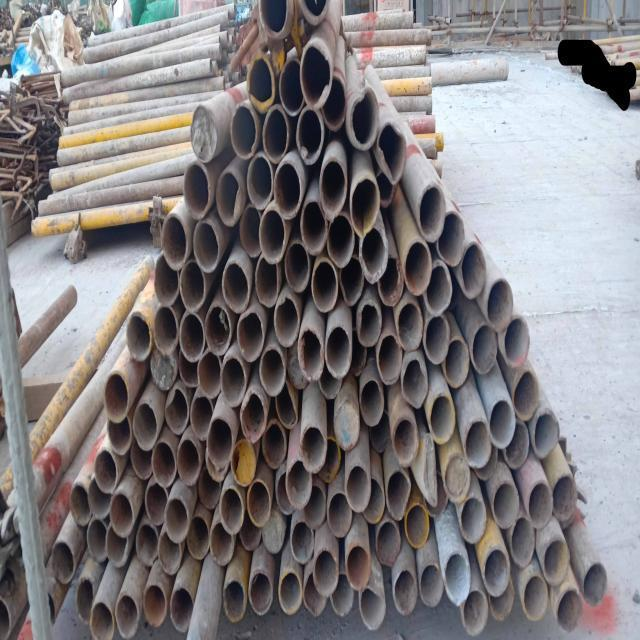pipe: (300, 41, 332, 110), (350, 84, 380, 151), (350, 174, 380, 240), (378, 118, 407, 186), (245, 51, 276, 114), (358, 223, 388, 285), (295, 102, 324, 166), (262, 100, 290, 164), (417, 180, 445, 243), (272, 162, 302, 220), (423, 260, 453, 318), (319, 156, 347, 218), (258, 206, 286, 266), (404, 238, 432, 298), (220, 260, 250, 316), (310, 258, 340, 313), (190, 104, 218, 162), (438, 210, 466, 268), (422, 309, 450, 367), (486, 275, 514, 333), (161, 210, 188, 270), (324, 322, 352, 379), (216, 170, 243, 228), (300, 198, 327, 256), (284, 459, 314, 511), (192, 219, 220, 274), (296, 326, 324, 381), (464, 416, 492, 471), (482, 544, 510, 599), (279, 59, 305, 118), (183, 162, 210, 218), (246, 154, 273, 210), (327, 214, 355, 268), (392, 414, 419, 470), (254, 252, 280, 310), (458, 492, 487, 544), (461, 240, 486, 300), (532, 408, 562, 458), (472, 316, 496, 378), (401, 356, 429, 409), (238, 203, 264, 260), (509, 516, 536, 570), (230, 102, 256, 158), (376, 254, 404, 306), (178, 260, 206, 312), (376, 334, 404, 386), (396, 301, 424, 353), (300, 420, 326, 476), (240, 388, 266, 444), (444, 550, 470, 606), (492, 478, 520, 530), (429, 392, 456, 445), (551, 471, 578, 524), (514, 366, 540, 421), (207, 416, 233, 471), (236, 312, 264, 363), (322, 76, 346, 135), (205, 304, 232, 356), (344, 464, 372, 514), (258, 346, 286, 396), (284, 240, 310, 293), (153, 305, 179, 358), (180, 310, 206, 363), (220, 354, 246, 407), (132, 398, 158, 451), (258, 0, 290, 43), (504, 315, 530, 367), (360, 377, 386, 429), (104, 372, 130, 424), (313, 547, 339, 599), (544, 534, 570, 586), (443, 336, 468, 390), (422, 434, 440, 509), (334, 400, 361, 450), (154, 251, 178, 307), (125, 311, 151, 362), (488, 397, 514, 448), (274, 295, 299, 348), (356, 297, 382, 347), (176, 438, 202, 488), (376, 518, 402, 568), (528, 480, 554, 530), (262, 418, 286, 472), (198, 347, 222, 401), (150, 440, 177, 488), (359, 582, 386, 630), (505, 416, 529, 470), (231, 437, 257, 486), (134, 519, 160, 568), (277, 569, 303, 618), (463, 588, 489, 637), (164, 497, 189, 547), (248, 568, 273, 618), (327, 488, 352, 538), (274, 378, 298, 430), (218, 486, 244, 534), (144, 480, 170, 528), (85, 514, 109, 566), (209, 518, 235, 566), (290, 518, 316, 566), (302, 570, 328, 618), (523, 574, 549, 622), (388, 467, 410, 523), (150, 348, 178, 392), (340, 254, 364, 305), (113, 592, 138, 640), (419, 562, 444, 610), (246, 480, 272, 526), (108, 494, 134, 540), (404, 502, 430, 548), (557, 586, 583, 632), (158, 528, 182, 577), (222, 576, 246, 625), (302, 481, 326, 530), (169, 585, 194, 632), (424, 471, 449, 518), (489, 576, 515, 621), (362, 476, 386, 524), (330, 569, 354, 617), (367, 407, 392, 453), (190, 393, 213, 443), (51, 540, 76, 586), (104, 524, 130, 568), (142, 584, 168, 628), (164, 388, 188, 435), (94, 447, 118, 494), (262, 508, 286, 555), (346, 543, 370, 590), (318, 356, 342, 402), (394, 568, 417, 616), (318, 434, 340, 484), (187, 515, 210, 561), (346, 328, 367, 378), (74, 576, 94, 628), (130, 437, 154, 480), (296, 0, 331, 29), (68, 484, 91, 528), (89, 477, 112, 521), (106, 414, 130, 456), (198, 469, 221, 512), (240, 507, 262, 551), (582, 560, 602, 608), (276, 470, 296, 517), (203, 446, 229, 482), (377, 169, 398, 213), (177, 350, 200, 390), (89, 603, 114, 639), (475, 441, 498, 480), (0, 592, 12, 639)
